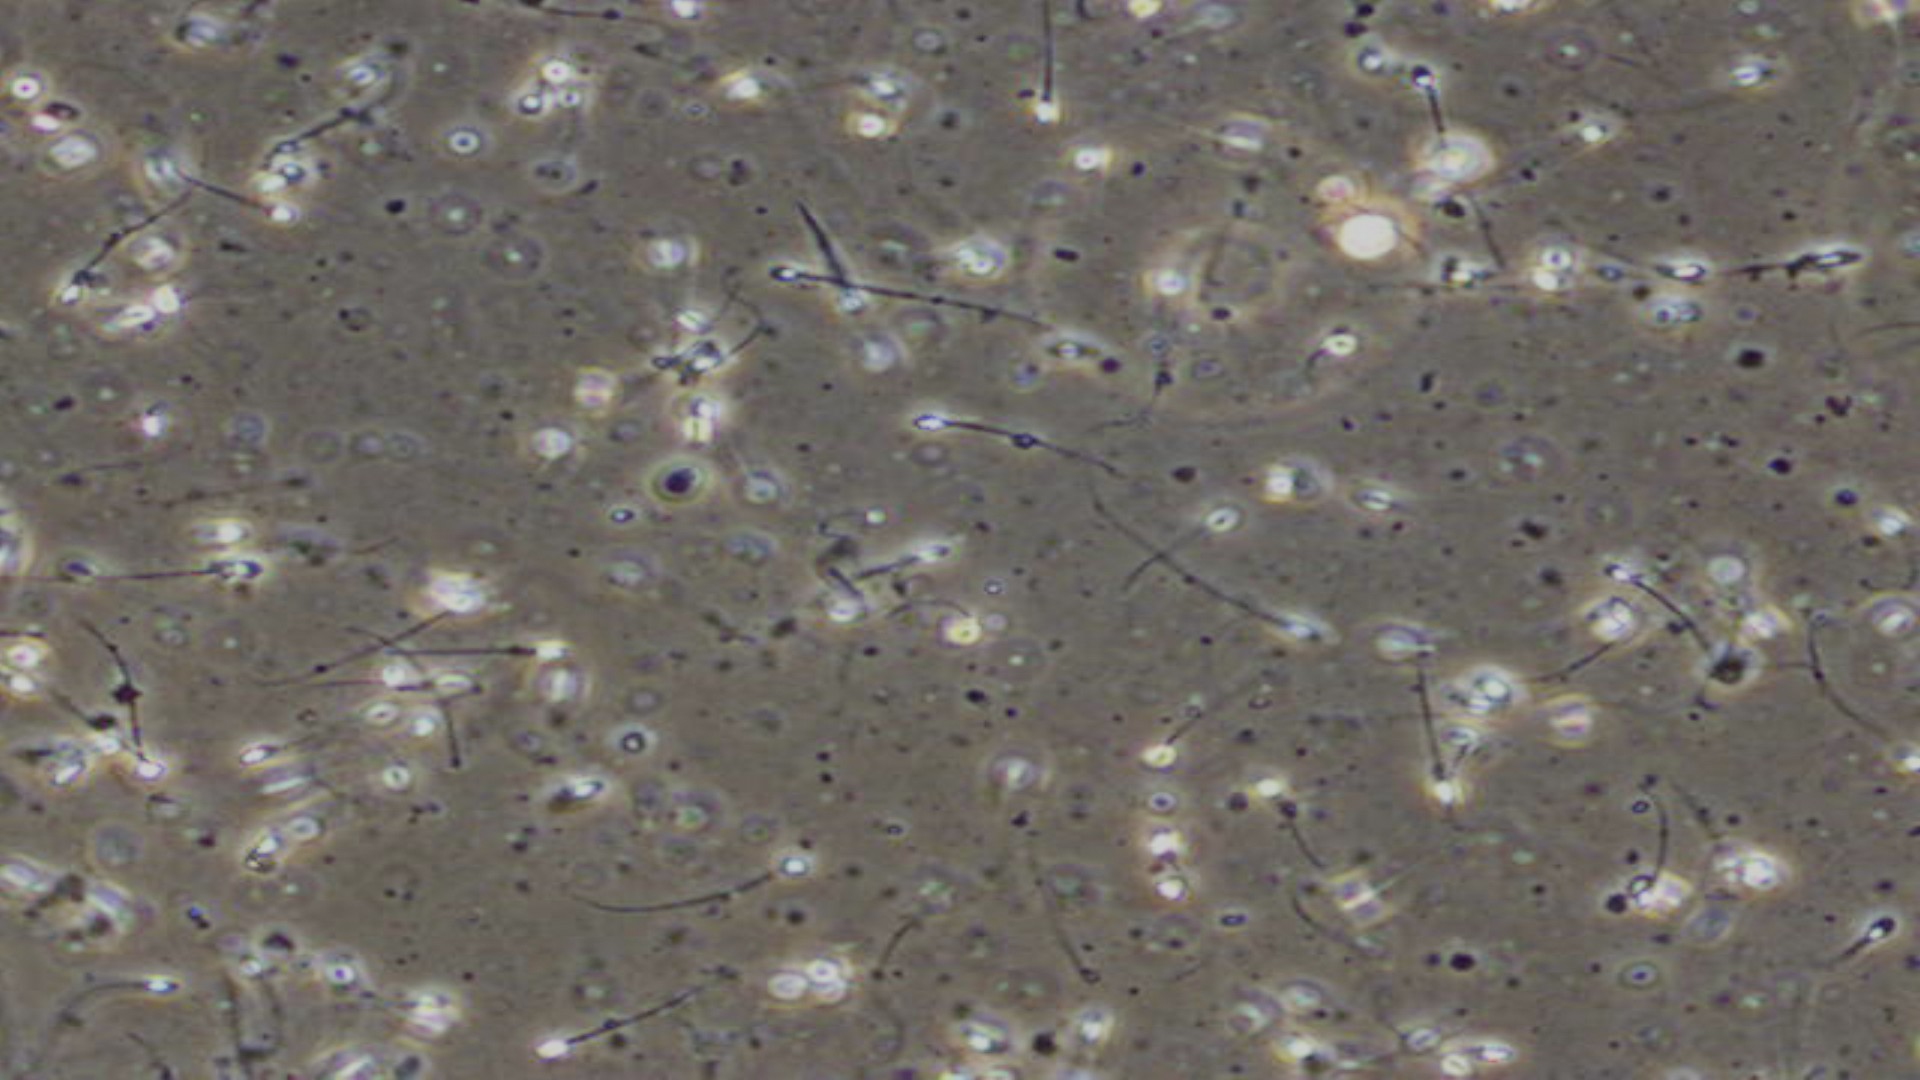sperm: (914, 404, 1114, 491), (686, 820, 825, 913), (1175, 556, 1315, 649), (767, 260, 953, 316), (525, 1007, 702, 1063), (1002, 4, 1068, 150), (49, 968, 181, 1040), (50, 232, 132, 342), (1402, 661, 1457, 811), (1607, 550, 1706, 628), (1586, 236, 1716, 287), (235, 711, 339, 773), (1404, 65, 1470, 160), (1813, 914, 1898, 985), (88, 560, 262, 595), (207, 174, 311, 227), (861, 542, 957, 592), (1625, 816, 1677, 905), (392, 645, 578, 665)
